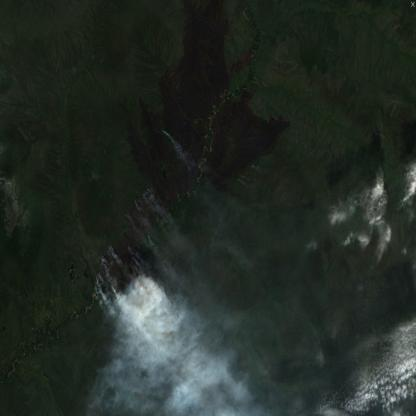fire: (89, 183, 168, 312)
